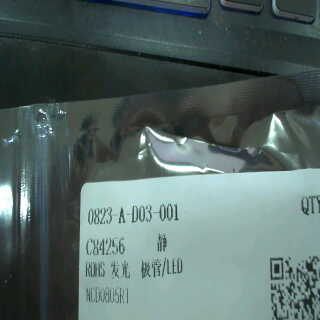LED: (106, 257, 192, 285)
